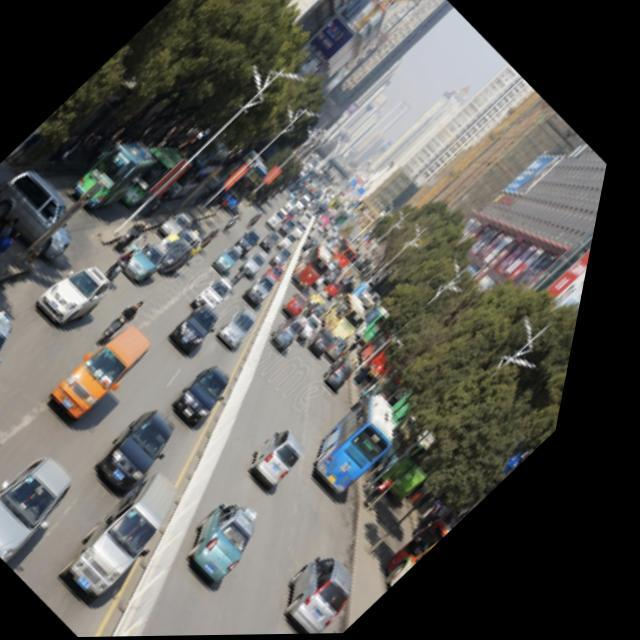license_plate: (128, 464, 150, 483)
